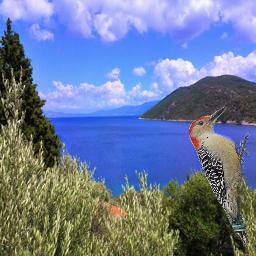Woodpecker: (189, 105, 250, 247)
